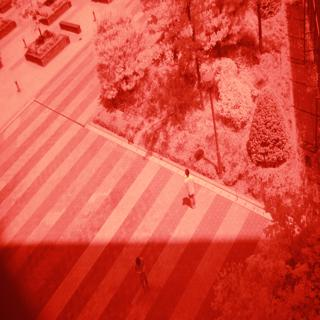person: (180, 161, 207, 217), (132, 250, 155, 301)
